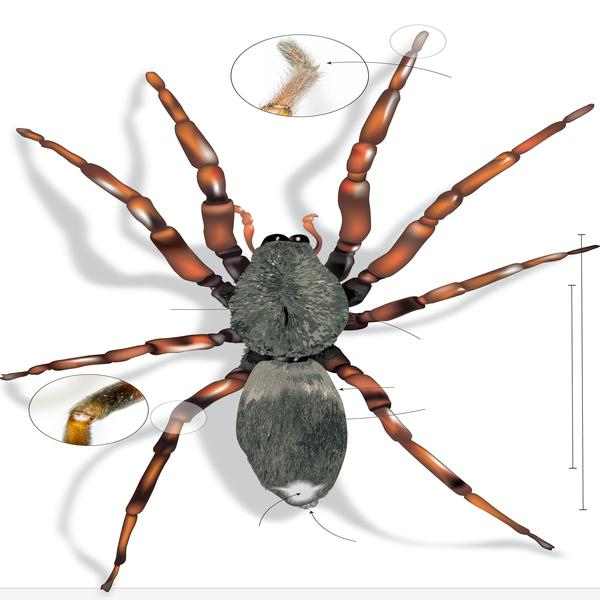White-Tailed Spider: (43, 63, 549, 557)
